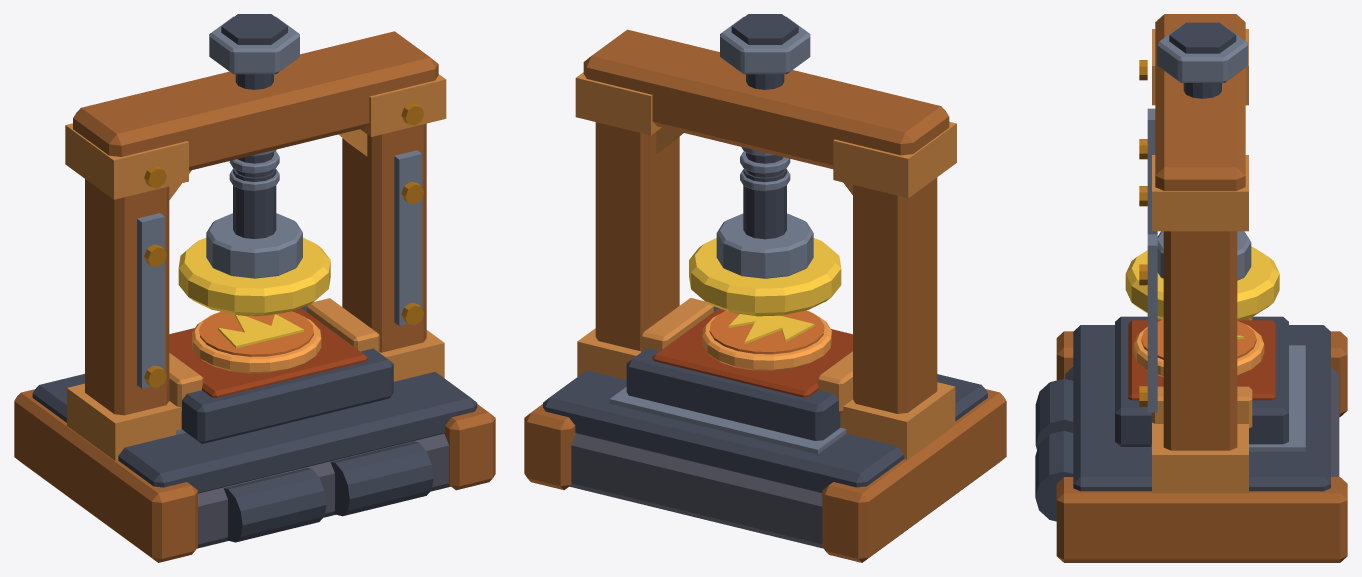
The model's file is MintPress.fbx.
3 views of the same model, side by side, from view 1: azimuth 30°, elevation 25°; view 2: azimuth 150°, elevation 25°; view 3: azimuth 270°, elevation 25° (orthographic).
Visible parts, largest first — view 1: Frame_TopBeam, Base_SteelDeck, Frame_Post_L, Base_WoodRunner_L, Frame_Post_R, Holder_SteelBlock, Head_GoldDie, Base_FrontRoller.001, Base_FrontRoller, Frame_PostCap_L, Holder_CopperTop, Head_SteelCollar (+16 smaller); view 2: Frame_TopBeam, Frame_Post_L, Frame_Post_R, Base_SteelDeck, Base_StonePlinth, Base_WoodRunner_L, Holder_SteelBlock, Head_GoldDie, Frame_PostCap_L, Holder_CopperTop, Head_SteelCollar, Frame_PostFoot_L (+13 smaller); view 3: Base_WoodRunner_R, Frame_Post_R, Base_SteelDeck, Frame_TopBeam, Holder_SteelBlock, Frame_PostFoot_R, Frame_PostCap_R, Head_GoldDie, Holder_CopperTop, Screw_TopNut, Base_FrontRoller.001, Base_DeckInset (+12 smaller).
Boxes of the visible parts, x1,y1,x2,y2 form: Frame_TopBeam: (73,31,438,170); Base_SteelDeck: (32,371,477,493); Frame_Post_L: (85,179,169,415); Base_WoodRunner_L: (14,389,197,562); Frame_Post_R: (342,123,426,352); Holder_SteelBlock: (171,305,393,443); Head_GoldDie: (178,237,330,315); Base_FrontRoller.001: (330,441,433,516); Base_FrontRoller: (223,467,326,542); Frame_PostCap_L: (65,123,188,199); Holder_CopperTop: (169,308,367,397); Head_SteelCollar: (206,213,302,278); Frame_TopBeam: (583,29,949,168); Frame_Post_L: (853,177,937,413); Frame_Post_R: (595,122,679,351); Base_SteelDeck: (543,370,987,493); Base_StonePlinth: (569,433,823,548); Base_WoodRunner_L: (822,389,1006,562); Holder_SteelBlock: (626,306,850,440); Head_GoldDie: (689,238,841,315); Frame_PostCap_L: (833,121,956,198); Holder_CopperTop: (652,308,852,397); Head_SteelCollar: (716,213,813,278); Frame_PostFoot_L: (840,382,955,459); Base_WoodRunner_R: (1056,477,1347,562); Frame_Post_R: (1163,231,1237,450); Base_SteelDeck: (1073,325,1330,491); Frame_TopBeam: (1155,14,1245,190); Holder_SteelBlock: (1115,316,1288,446); Frame_PostFoot_R: (1152,422,1248,492); Frame_PostCap_R: (1152,155,1248,231); Head_GoldDie: (1125,246,1279,320); Holder_CopperTop: (1128,320,1275,400); Screw_TopNut: (1157,25,1247,82); Base_FrontRoller.001: (1035,430,1073,521); Base_DeckInset: (1151,345,1305,451).
Size of the model in its own units: 2.38 by 2.95 by 1.87.
